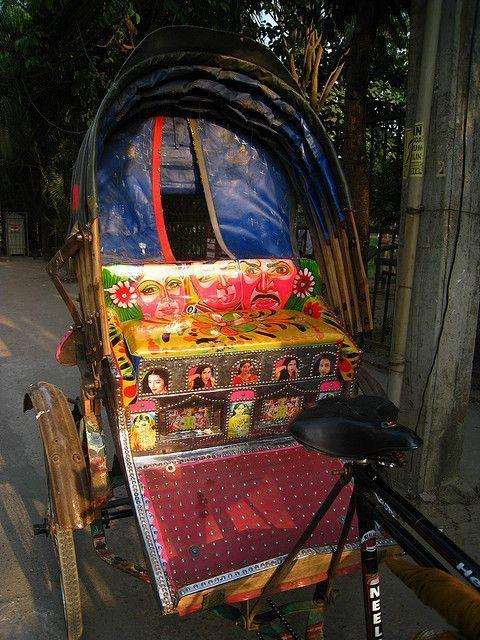Rickshaw: (20, 3, 480, 629)
